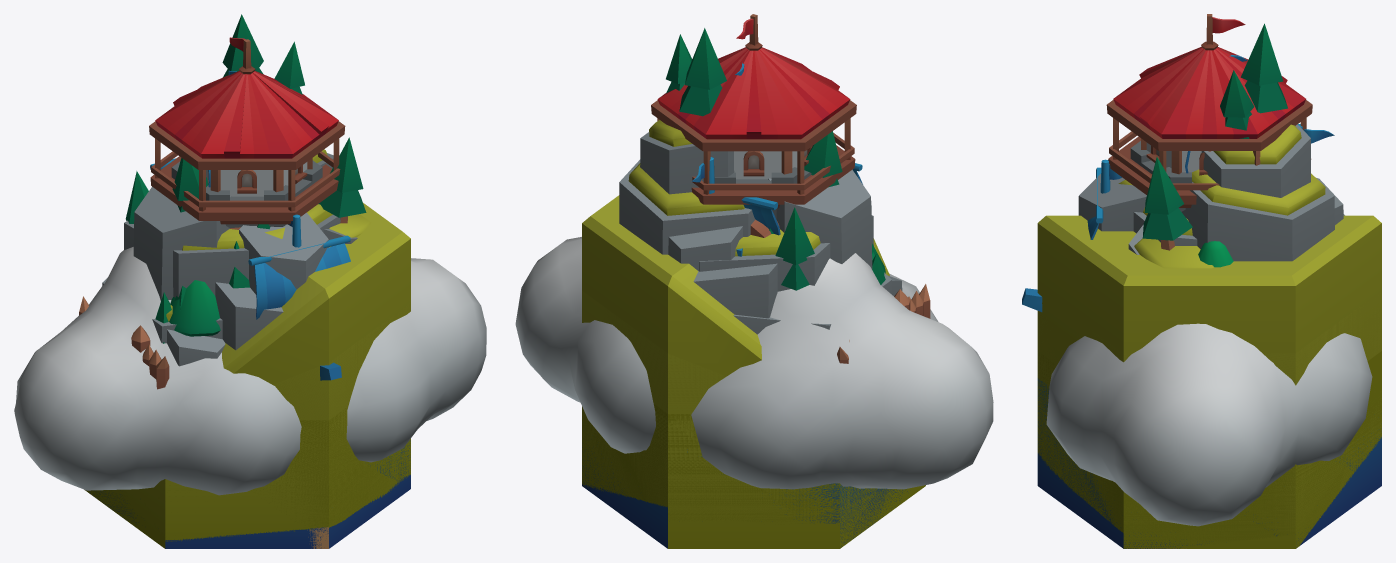
The model's file is embarcadero.glb.
3 views of the same model, side by side, from view 1: azimuth 30°, elevation 25°; view 2: azimuth 150°, elevation 25°; view 3: azimuth 270°, elevation 25° (orthographic). The views are drawn at different scales.
Parts seen in each view (by area): view 1: cloud_big, hex_grass_sloped_high, building_tower_b_top_red, hex_grass, mountain_c, hex_grass_bottom, hex_grass_sloped_low, mountain_b_grass_trees, ship_blue_full, mountain_a, hex_coast_d, trees_b_medium (+5 smaller); view 2: cloud_big, hex_grass_sloped_high, building_tower_b_top_red, hex_grass, hex_grass_bottom, mountain_c, hex_grass_sloped_low, mountain_b_grass_trees, mountain_b, hex_coast_a, hex_coast_c, hex_water (+6 smaller); view 3: cloud_big, hex_grass_sloped_high, building_tower_b_top_red, hex_grass_bottom, mountain_b_grass_trees, mountain_b, hex_grass, hex_grass_sloped_low, mountain_c, hex_coast_d, ship_blue_full, hex_water (+6 smaller).
Part boxes in pixels (x1=…): cloud_big: x1=14, y1=247, x2=486, y2=495; hex_grass_sloped_high: x1=85, y1=203, x2=410, y2=541; building_tower_b_top_red: x1=149, y1=37, x2=345, y2=224; hex_grass: x1=85, y1=421, x2=410, y2=541; mountain_c: x1=133, y1=187, x2=357, y2=366; hex_grass_bottom: x1=87, y1=406, x2=410, y2=541; hex_grass_sloped_low: x1=87, y1=305, x2=409, y2=526; mountain_b_grass_trees: x1=125, y1=14, x2=370, y2=321; ship_blue_full: x1=150, y1=70, x2=350, y2=380; mountain_a: x1=124, y1=214, x2=340, y2=297; hex_coast_d: x1=165, y1=527, x2=328, y2=548; trees_b_medium: x1=169, y1=280, x2=220, y2=336; cloud_big: x1=515, y1=237, x2=993, y2=489; hex_grass_sloped_high: x1=582, y1=195, x2=889, y2=540; building_tower_b_top_red: x1=651, y1=14, x2=856, y2=208; hex_grass: x1=582, y1=406, x2=911, y2=547; hex_grass_bottom: x1=582, y1=404, x2=910, y2=548; mountain_c: x1=668, y1=169, x2=902, y2=318; hex_grass_sloped_low: x1=582, y1=291, x2=867, y2=546; mountain_b_grass_trees: x1=628, y1=28, x2=842, y2=290; mountain_b: x1=619, y1=132, x2=891, y2=334; hex_coast_a: x1=668, y1=520, x2=839, y2=548; hex_coast_c: x1=668, y1=518, x2=789, y2=548; hex_water: x1=582, y1=445, x2=907, y2=547; cloud_big: x1=1046, y1=323, x2=1372, y2=526; hex_grass_sloped_high: x1=1037, y1=215, x2=1381, y2=547; building_tower_b_top_red: x1=1106, y1=14, x2=1312, y2=207; hex_grass_bottom: x1=1037, y1=351, x2=1381, y2=548; mountain_b_grass_trees: x1=1134, y1=23, x2=1325, y2=268; mountain_b: x1=1182, y1=124, x2=1334, y2=261; hex_grass: x1=1037, y1=360, x2=1381, y2=548; hex_grass_sloped_low: x1=1037, y1=305, x2=1381, y2=547; mountain_c: x1=1078, y1=174, x2=1344, y2=254; hex_coast_d: x1=1300, y1=437, x2=1381, y2=545; ship_blue_full: x1=1022, y1=55, x2=1334, y2=312; hex_water: x1=1037, y1=378, x2=1379, y2=548.
Size of the model in its own units: 3.61 by 3.5 by 2.41.
